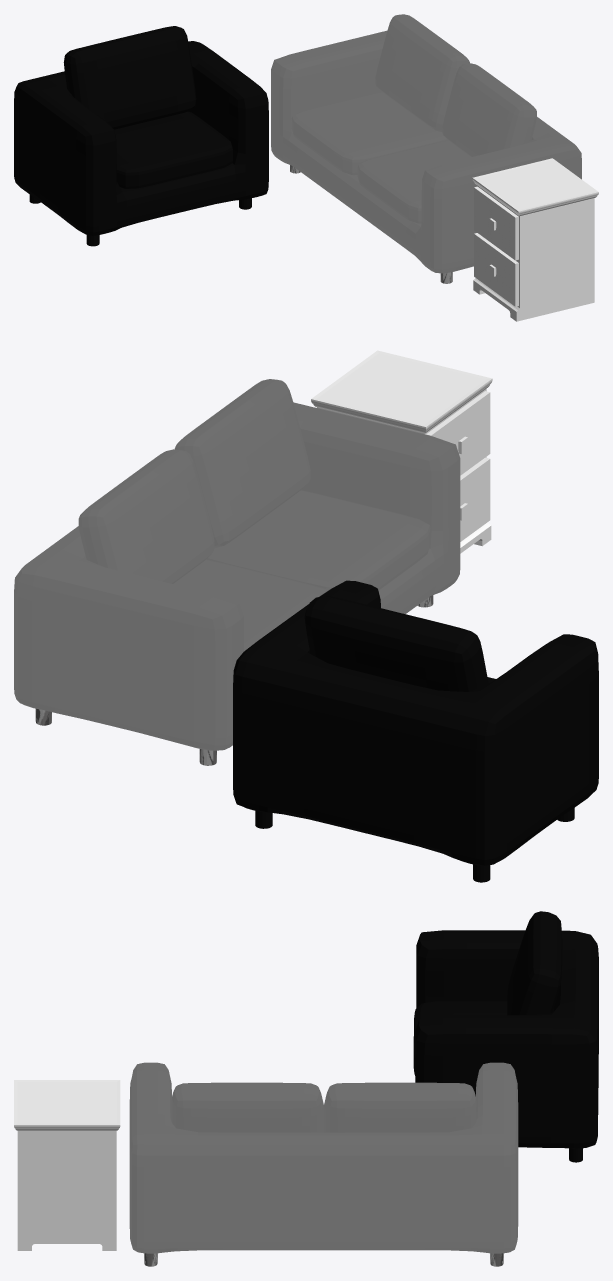
The model's file is sillon.glb.
The picture shows the model from 3 angles, top to bottom: view 1: azimuth 30°, elevation 25°; view 2: azimuth 150°, elevation 25°; view 3: azimuth 270°, elevation 25°; orthographic projection. The views are drawn at different scales.
Visible parts, largest first — view 1: Cube.016; view 2: Cube.016; view 3: Cube.016.
Boxes of the visible parts, x1,y1,x2,y2 form: Cube.016: [14, 14, 598, 321]; Cube.016: [14, 350, 598, 882]; Cube.016: [14, 911, 598, 1266].
Bounding box in the file's own units: 3.56 × 1.41 × 4.22.
4 materials, 1 textured.
